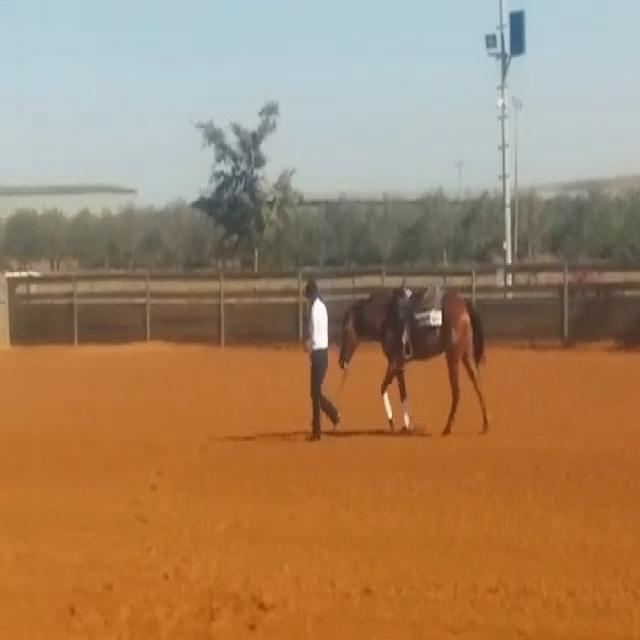horse: (336, 278, 491, 438)
